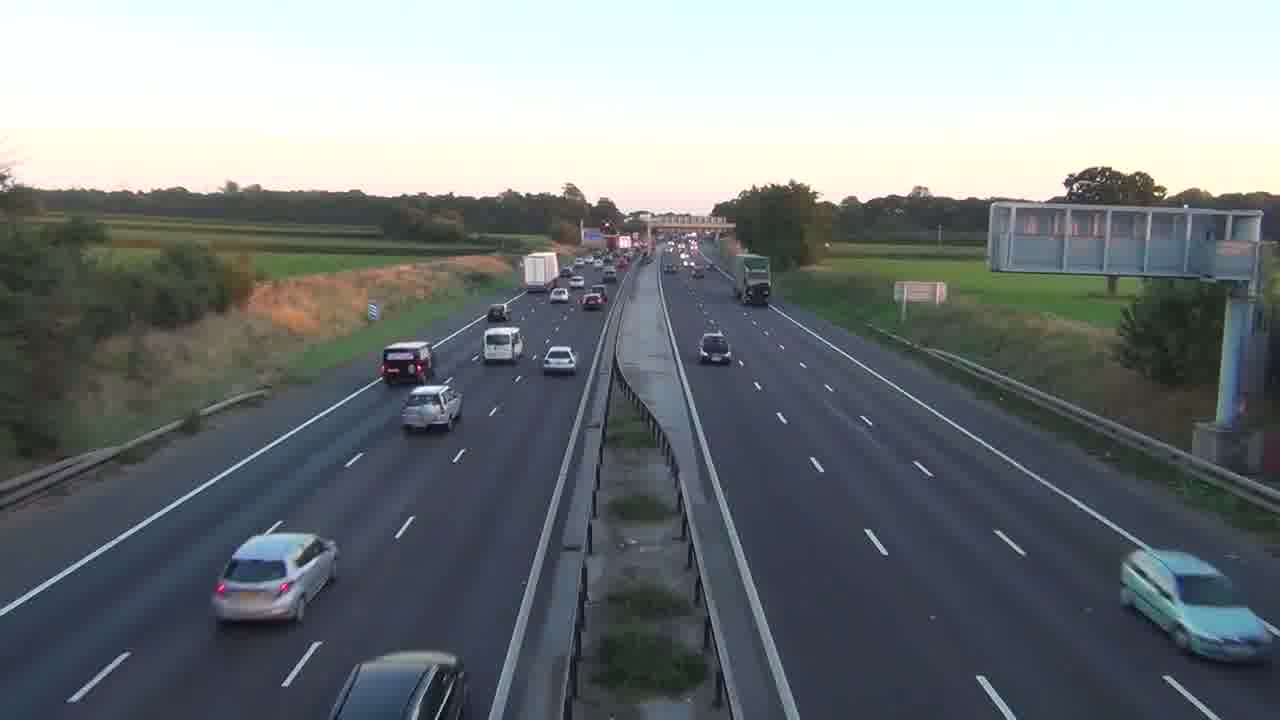car: (1119, 545, 1279, 664), (210, 521, 339, 626), (328, 649, 469, 718), (400, 384, 463, 433), (697, 332, 731, 365), (542, 345, 577, 375), (580, 290, 607, 310)
truck: (1119, 545, 1279, 664), (381, 339, 434, 385), (482, 325, 522, 363)
